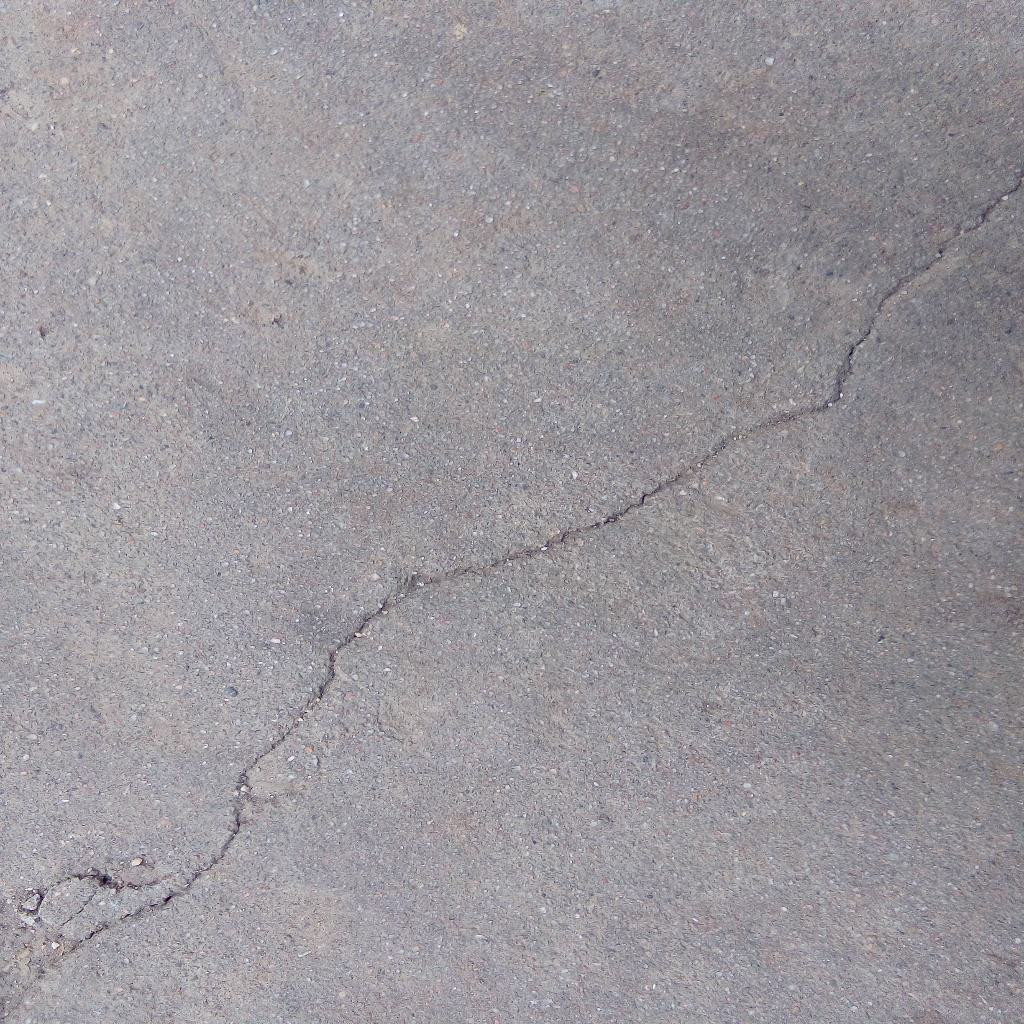Crack: (1, 170, 1024, 1024)
